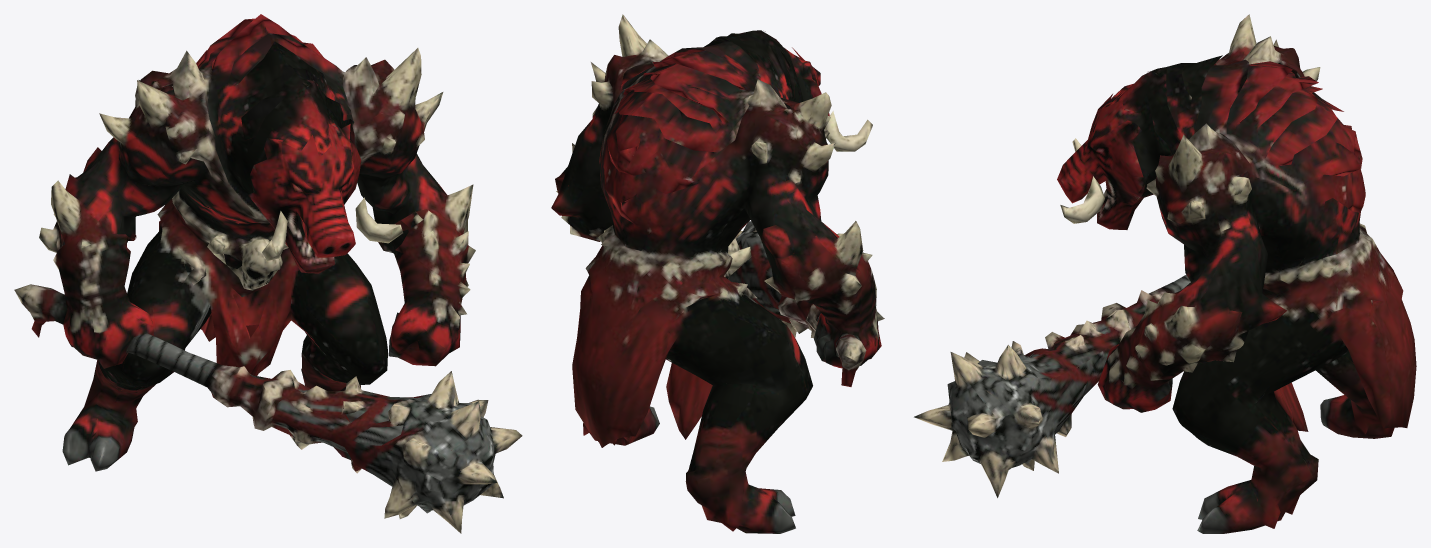
The model's file is tuskers__beasts_blood_pact_ready.glb.
3 views of the same model, side by side, from view 1: azimuth 30°, elevation 25°; view 2: azimuth 150°, elevation 25°; view 3: azimuth 270°, elevation 25° (orthographic). The views are drawn at different scales.
Parts seen in each view (by area): view 1: world; view 2: world; view 3: world.
Part boxes in pixels (x1=…): world: x1=14, y1=14, x2=522, y2=533; world: x1=551, y1=14, x2=884, y2=533; world: x1=914, y1=14, x2=1416, y2=533.
Size of the model in its own units: 0.8346 by 0.9118 by 0.9737.
Materials: 1 (1 with a texture image).
